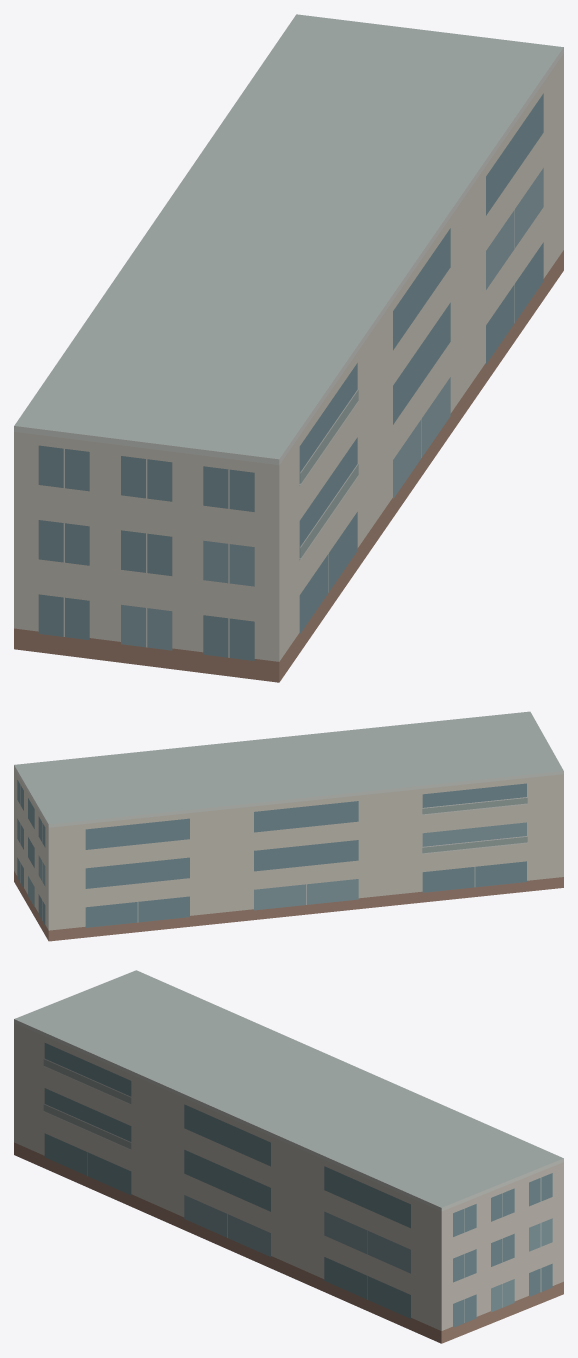
Rendered from survey-upis-32509675.glb.
3 views of the same model, one above another, from view 1: azimuth 30°, elevation 25°; view 2: azimuth 150°, elevation 25°; view 3: azimuth 270°, elevation 25° (orthographic). The views are drawn at different scales.
Visible parts, largest first — view 1: survey-upis-32509675.tmp; view 2: survey-upis-32509675.tmp; view 3: survey-upis-32509675.tmp.
Boxes of the visible parts, <box> form: survey-upis-32509675.tmp: <box>14,14,563,682</box>; survey-upis-32509675.tmp: <box>14,711,563,941</box>; survey-upis-32509675.tmp: <box>14,970,563,1343</box>.
Bounding box in the file's own units: 34.33 × 9.15 × 33.56.
